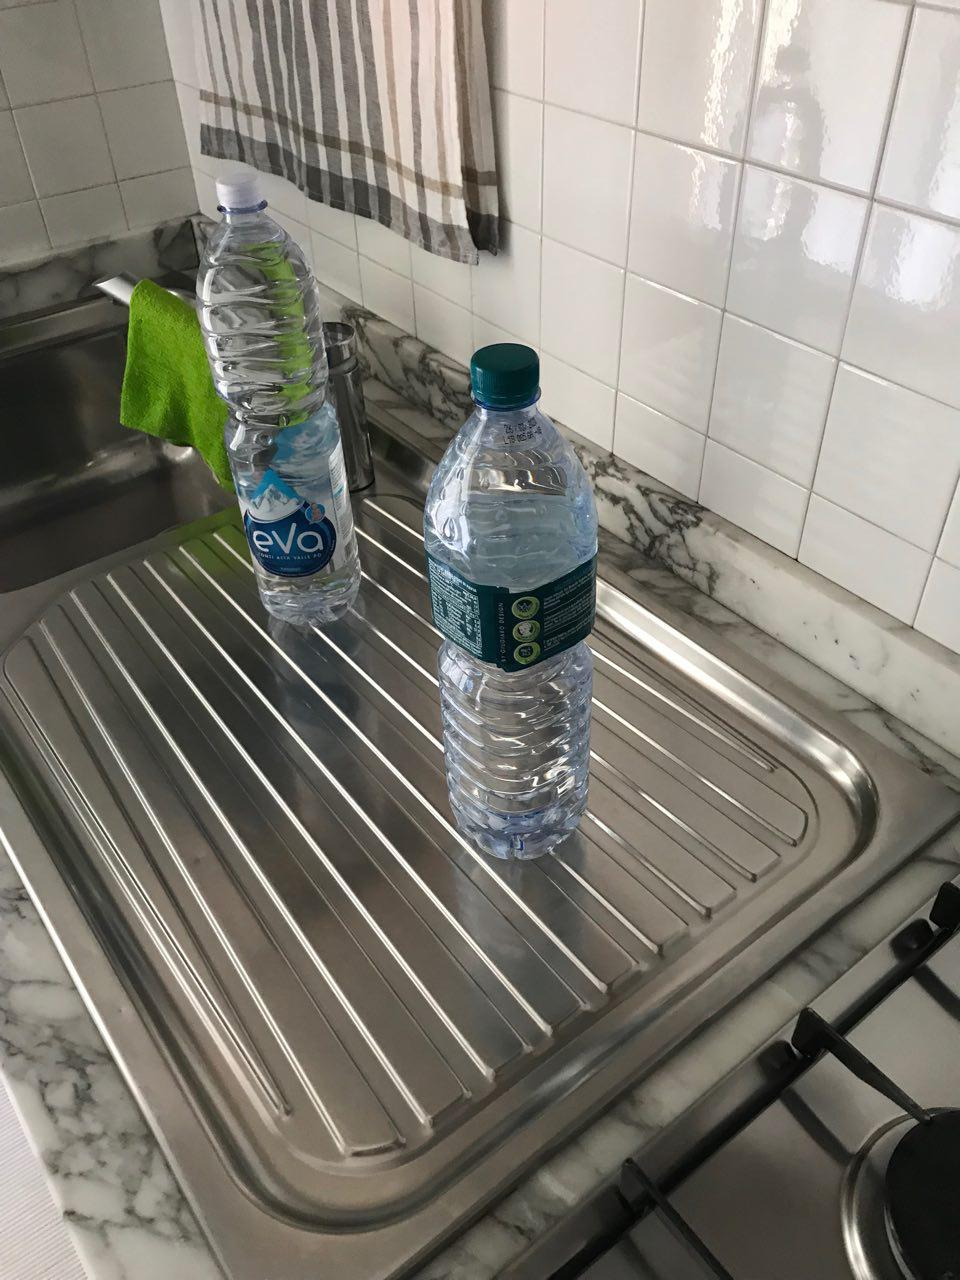san_bernardo: (422, 341, 601, 862)
